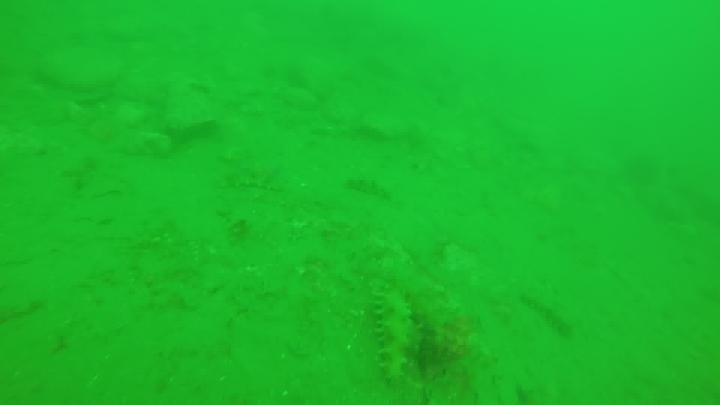holothurian: (370, 283, 420, 387), (520, 288, 576, 339), (215, 162, 286, 193), (343, 174, 394, 202)
